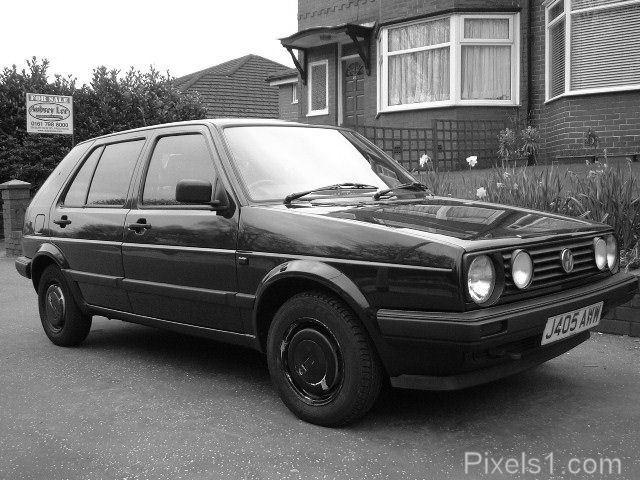car: (15, 118, 640, 428)
